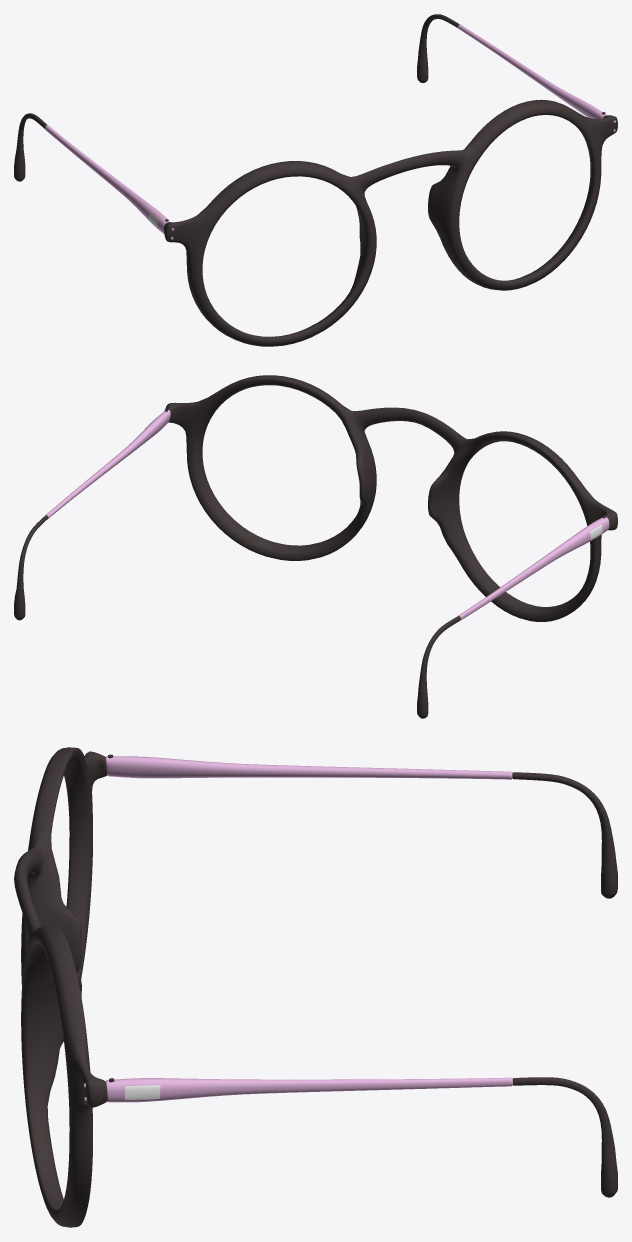
The model's file is Glasses_Frame01.glb.
3 renders of one model, top to bottom at view 1: azimuth 30°, elevation 25°; view 2: azimuth 150°, elevation 25°; view 3: azimuth 270°, elevation 25°, orthographic. The views are drawn at different scales.
Visible parts, largest first — view 1: Cylinder004, Cylinder004_1; view 2: Cylinder004, Cylinder004_1; view 3: Cylinder004, Cylinder004_1.
Boxes of the visible parts, left/top/right/bottom form: Cylinder004: left=14, top=14, right=617, bottom=346; Cylinder004_1: left=45, top=24, right=615, bottom=239; Cylinder004: left=14, top=375, right=617, bottom=718; Cylinder004_1: left=45, top=410, right=609, bottom=620; Cylinder004: left=14, top=747, right=617, bottom=1227; Cylinder004_1: left=83, top=756, right=512, bottom=1102.
Size of the model in its own units: 0.1057 by 0.0405 by 0.0805.
